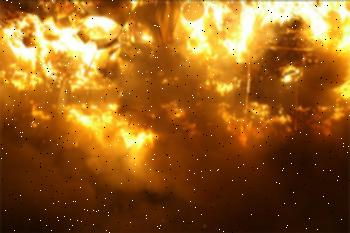fire: (0, 0, 348, 186)
